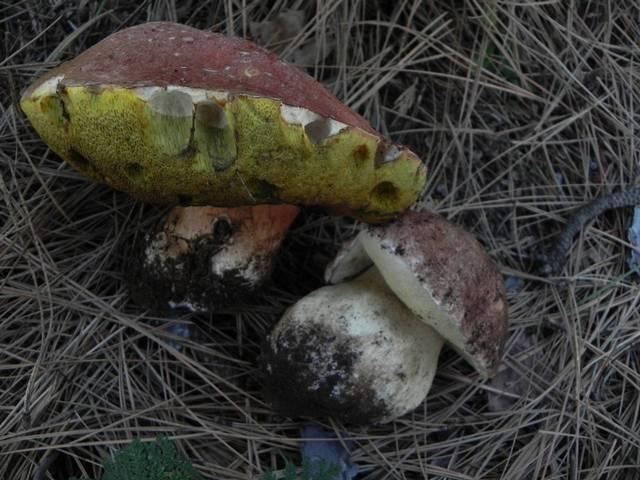edible_mushroom: (17, 19, 427, 317), (259, 209, 509, 426)
